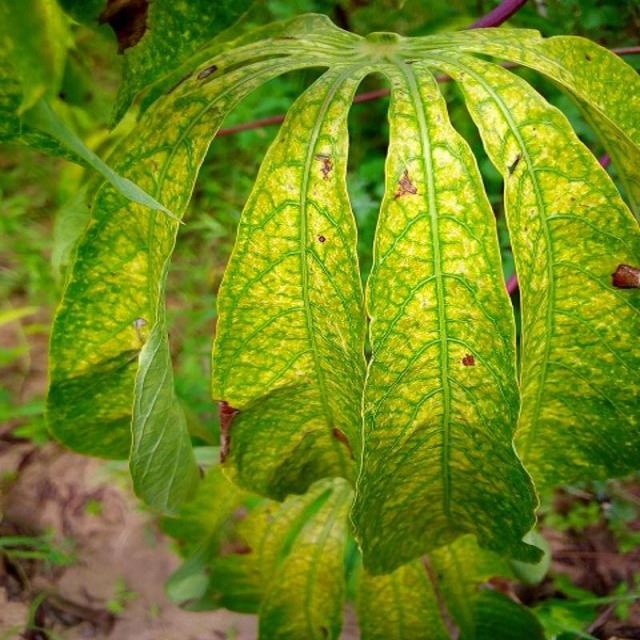cassava leaf: (39, 3, 639, 636), (349, 58, 542, 576), (211, 57, 371, 500)
